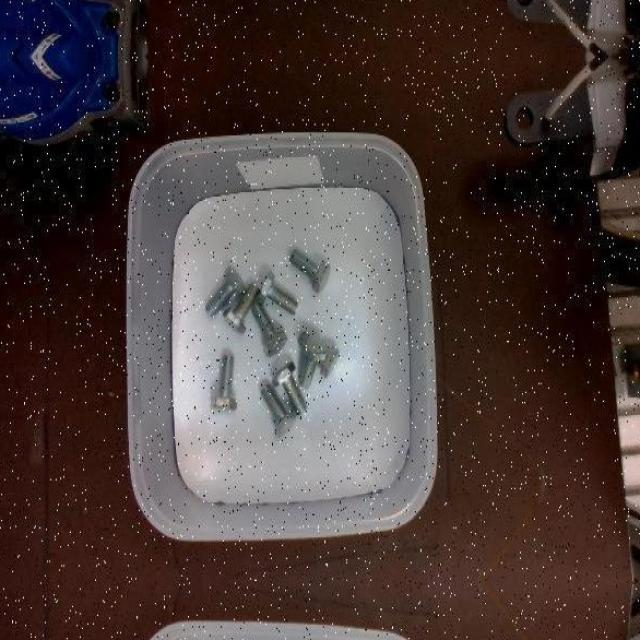screw: (205, 266, 247, 316), (260, 381, 298, 436), (251, 300, 287, 356), (273, 359, 308, 416), (291, 248, 332, 293), (223, 282, 259, 332), (259, 270, 298, 315), (298, 333, 326, 388), (210, 354, 237, 409)
